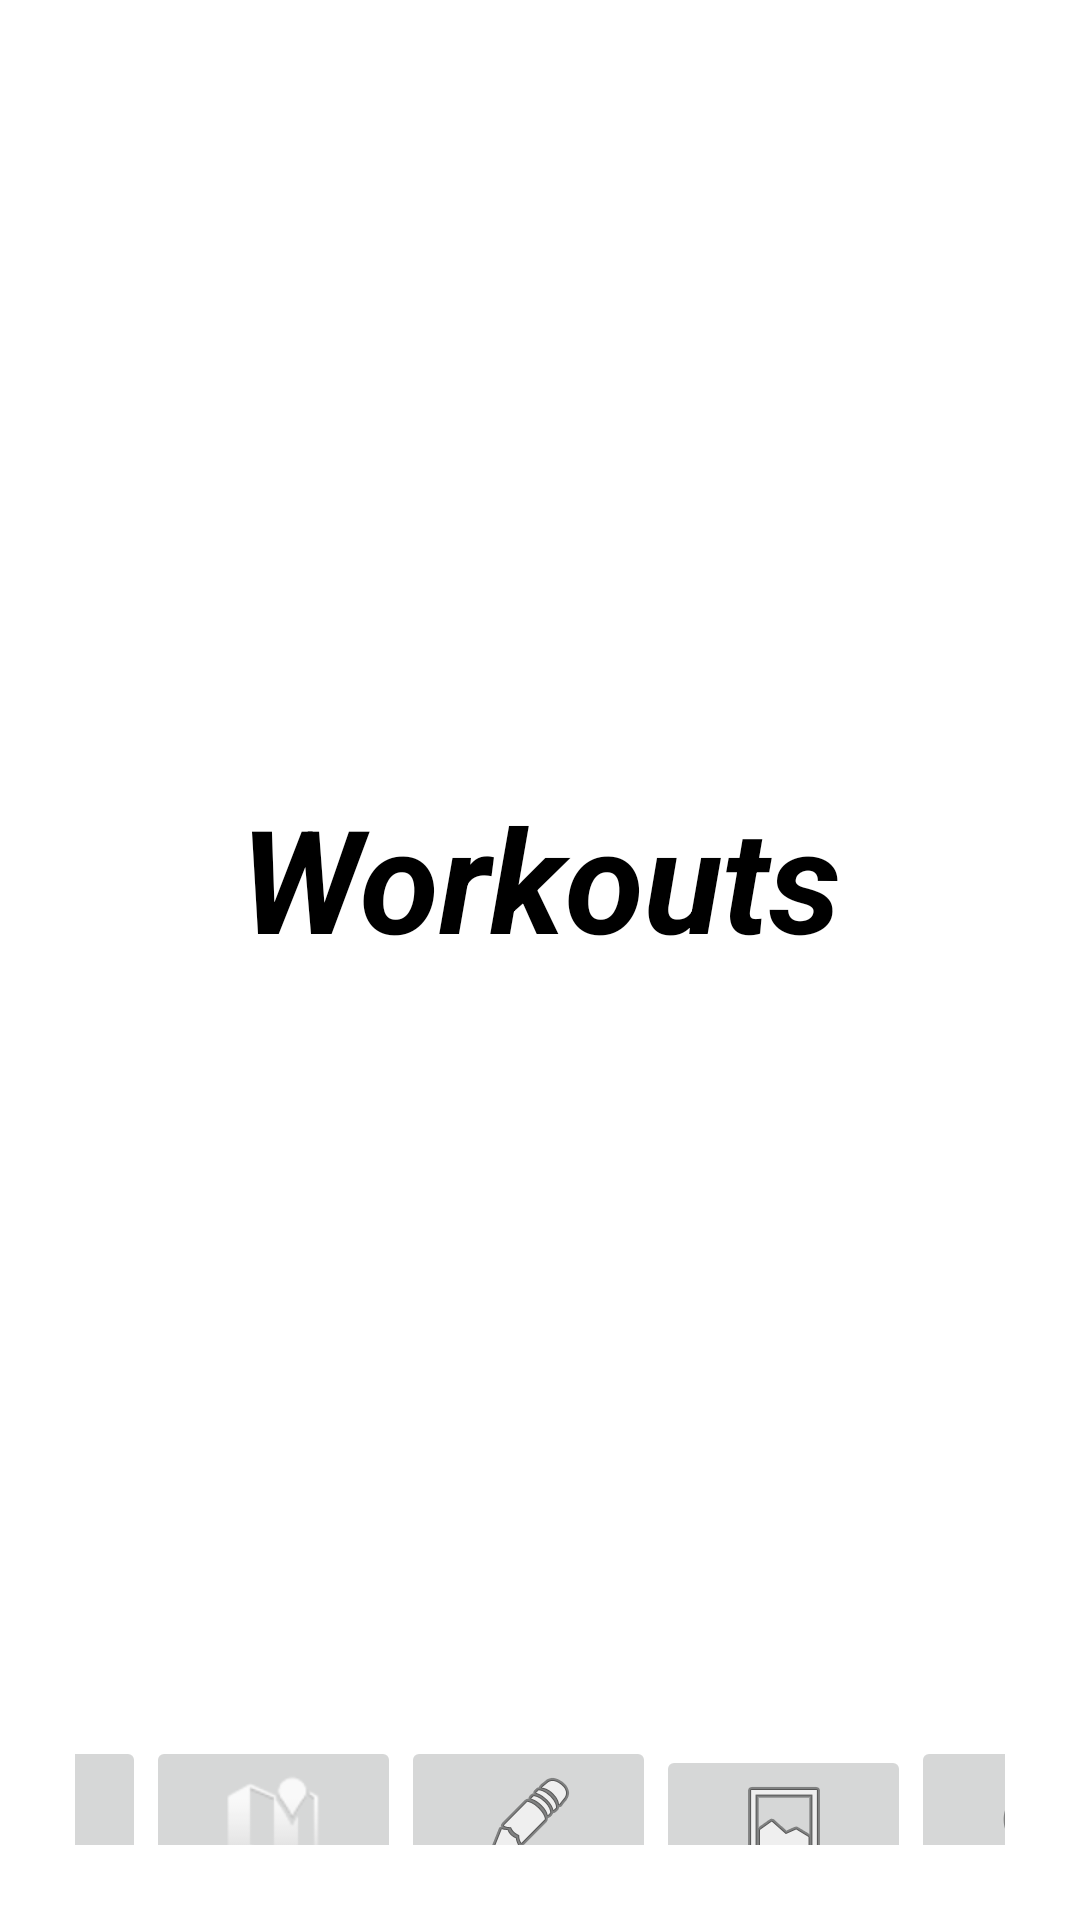

Locate icon controls on the screen. Image size 1080px×1920px, boxes as (x1, y1, x2, y2).
edit: (413, 1754, 644, 1845)
